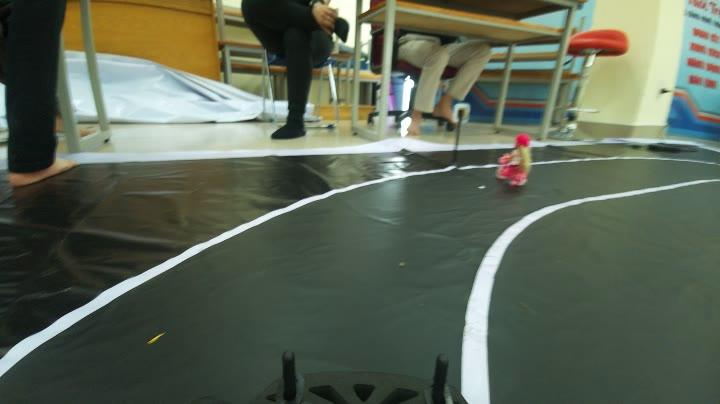pedestrian: (498, 130, 536, 197)
